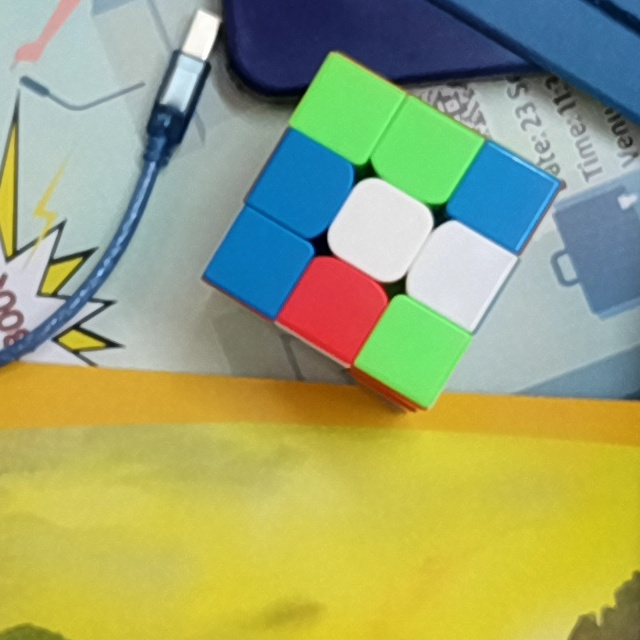tile: (305, 276, 369, 336), (350, 202, 411, 261), (429, 241, 487, 303), (381, 321, 443, 379), (394, 123, 455, 181), (470, 170, 533, 224), (276, 157, 335, 214), (315, 85, 376, 139), (231, 236, 287, 292)
